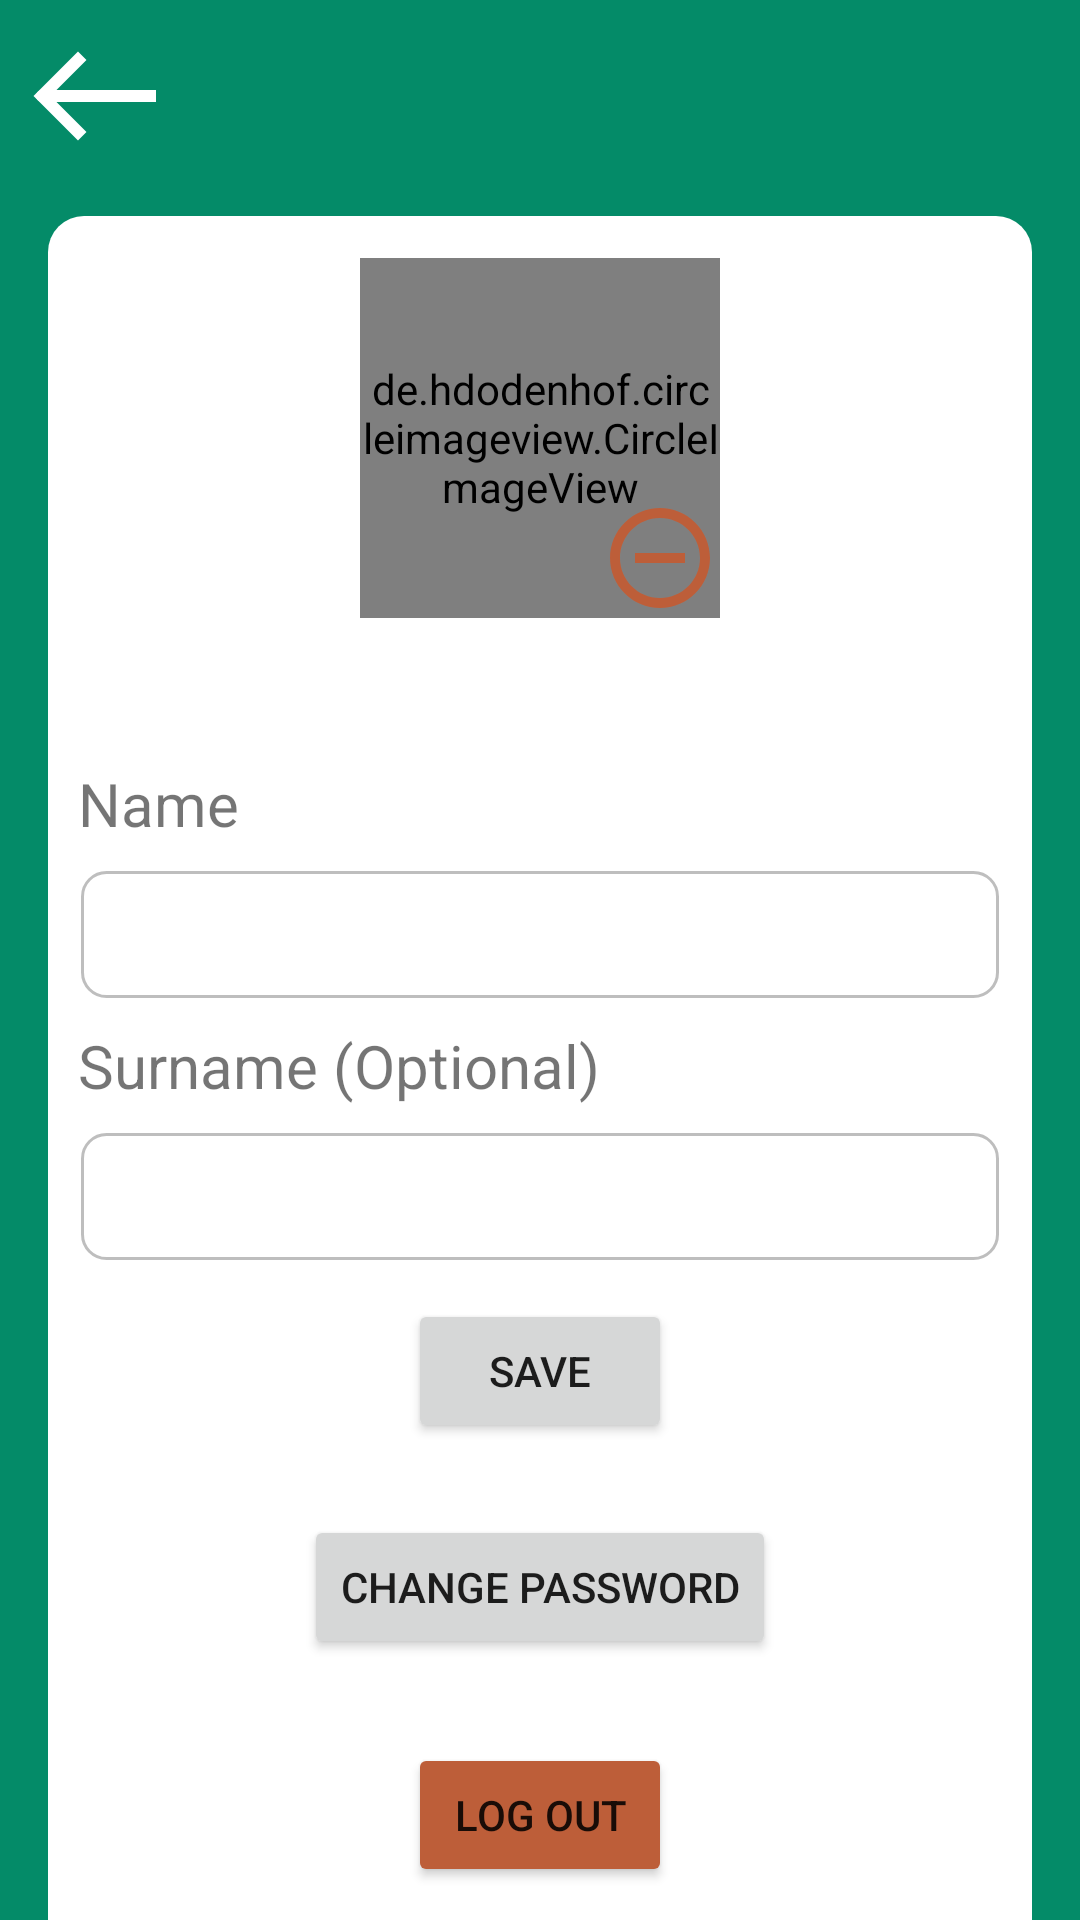

Screen size 1080×1920. Icon name, then its box in pixels as (x1, y1, x2, y2):
Back: (33, 51, 156, 141)
Remove: (610, 508, 710, 608)
